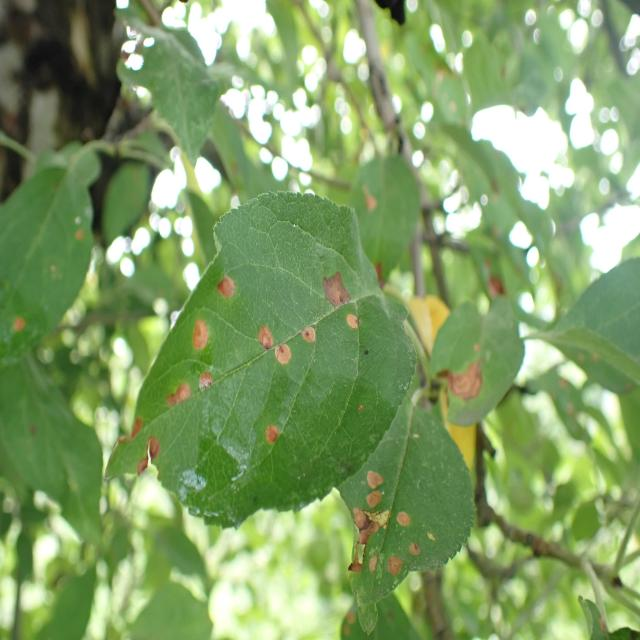Black Rot: (332, 494, 388, 588), (118, 406, 166, 494), (433, 357, 499, 416), (311, 256, 358, 311), (360, 462, 392, 518), (356, 168, 384, 230), (160, 376, 192, 421), (186, 313, 215, 355), (206, 270, 238, 308), (271, 335, 296, 380), (295, 323, 328, 356), (387, 504, 417, 540), (254, 310, 276, 357), (386, 542, 406, 590), (338, 600, 360, 638), (260, 419, 283, 454), (195, 366, 215, 406), (344, 312, 366, 344), (406, 540, 428, 560)
